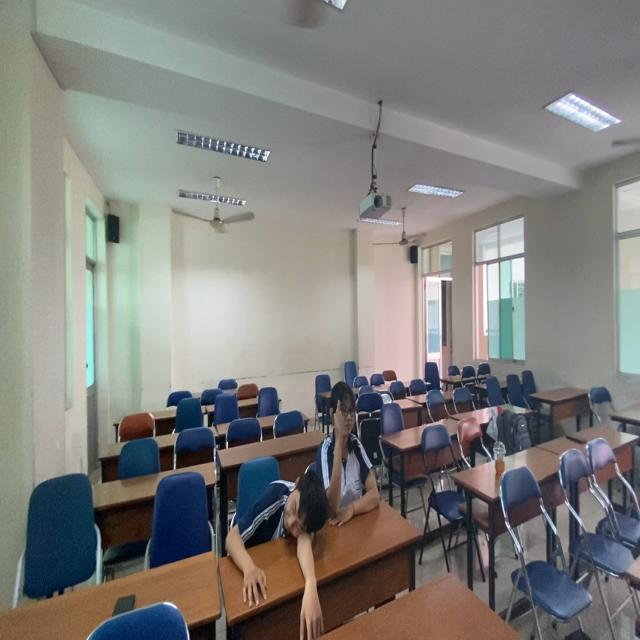raise_hand: (316, 380, 386, 532)
sleep: (222, 474, 332, 565)
